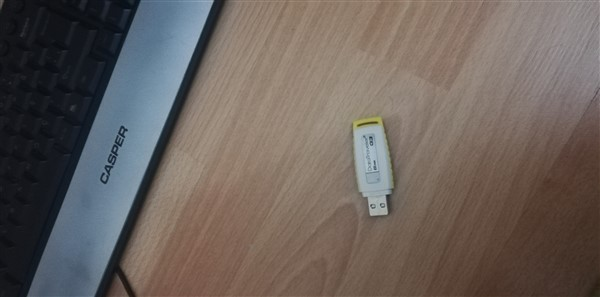flash disk: (348, 118, 404, 223)
klavye: (6, 2, 232, 297)
